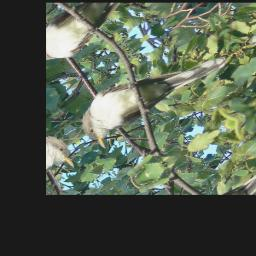Cuckoo: (68, 28, 235, 154)
